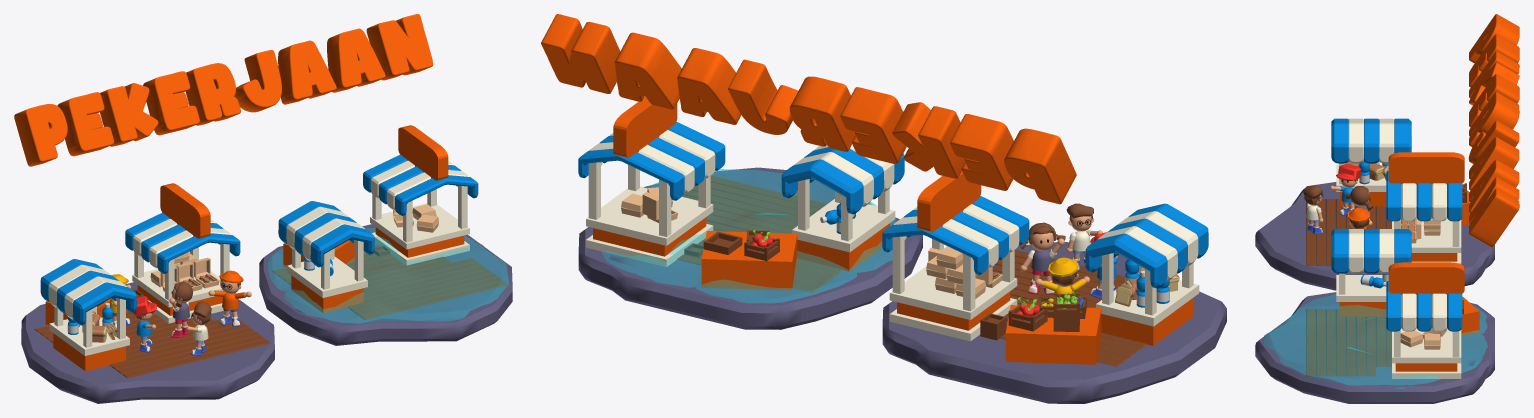
The picture shows the model from 3 angles, left to right: view 1: azimuth 30°, elevation 25°; view 2: azimuth 150°, elevation 25°; view 3: azimuth 270°, elevation 25°; orthographic projection. The views are drawn at different scales.
Parts seen in each view (by area): view 1: Text, Plane.046, Plane.045, Plane.020, Cube.257, Cube.200, Plane.220, Plane.354, Plane.245, Plane.183, Cube.227, Cube.141 (+16 smaller); view 2: Text, Plane.045, Plane.020, Plane.046, Plane.354, Plane.245, Plane.183, Plane.220, Cube.257, Cube.241, Cube.163, Cube.186 (+19 smaller); view 3: Text, Plane.045, Plane.046, Plane.020, Cube.257, Plane.354, Plane.220, Plane.183, Plane.245, Cube.141, Cube.227, Cube.200 (+17 smaller).
Part boxes in pixels (left/top/right/bottom): Text: left=14, top=14, right=433, bottom=166; Plane.046: left=268, top=227, right=509, bottom=323; Plane.045: left=259, top=224, right=512, bottom=345; Plane.020: left=21, top=282, right=274, bottom=403; Cube.257: left=347, top=258, right=508, bottom=320; Cube.200: left=109, top=316, right=270, bottom=378; Plane.220: left=278, top=201, right=374, bottom=267; Plane.354: left=40, top=259, right=136, bottom=325; Plane.245: left=125, top=212, right=240, bottom=273; Plane.183: left=363, top=154, right=478, bottom=215; Cube.227: left=398, top=125, right=448, bottom=180; Cube.141: left=160, top=183, right=210, bottom=238; Text: left=541, top=14, right=1076, bottom=204; Plane.045: left=578, top=167, right=922, bottom=329; Plane.020: left=882, top=242, right=1226, bottom=403; Plane.046: left=602, top=169, right=896, bottom=302; Plane.354: left=1085, top=203, right=1208, bottom=288; Plane.245: left=882, top=196, right=1029, bottom=274; Plane.183: left=578, top=121, right=725, bottom=200; Plane.220: left=781, top=144, right=904, bottom=214; Cube.257: left=682, top=175, right=826, bottom=233; Cube.241: left=701, top=231, right=797, bottom=290; Cube.163: left=1005, top=305, right=1101, bottom=364; Cube.186: left=586, top=186, right=713, bottom=245; Text: left=1468, top=14, right=1519, bottom=247; Plane.045: left=1255, top=292, right=1494, bottom=403; Plane.046: left=1263, top=294, right=1487, bottom=388; Plane.020: left=1255, top=182, right=1494, bottom=290; Cube.257: left=1306, top=309, right=1375, bottom=376; Plane.354: left=1331, top=118, right=1411, bottom=163; Plane.220: left=1331, top=229, right=1411, bottom=273; Plane.183: left=1386, top=281, right=1462, bottom=331; Plane.245: left=1386, top=170, right=1462, bottom=221; Cube.141: left=1388, top=152, right=1464, bottom=184; Cube.227: left=1388, top=262, right=1464, bottom=294; Cube.200: left=1306, top=199, right=1375, bottom=266.
Size of the model in its own units: 0.6792 by 0.3071 by 0.3609.
